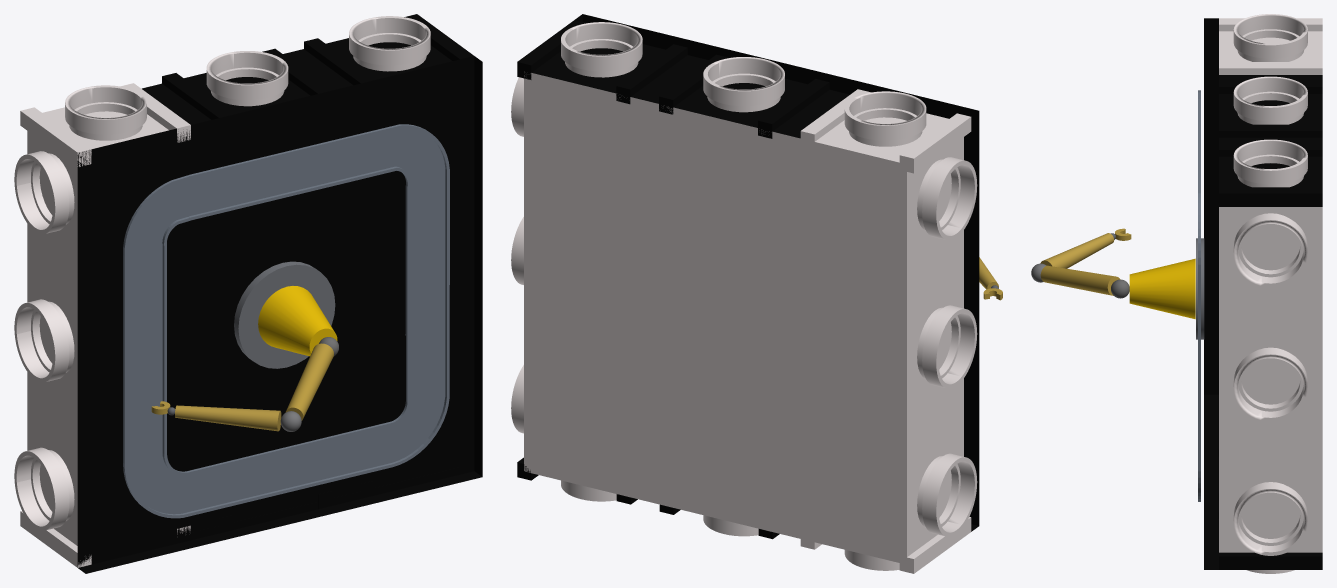
The model's file is montagemaschine.gltf.
The picture shows the model from 3 angles, left to right: view 1: azimuth 30°, elevation 25°; view 2: azimuth 150°, elevation 25°; view 3: azimuth 270°, elevation 25°; orthographic projection. The views are drawn at different scales.
Visible parts, largest first — view 1: table_top, Plane, table_side_back, Cube, Cube.001, Cylinder, Cylinder.001, pipe_exit_back_right, pipe_exit_right_middle, pipe_exit_back_middle, pipe_exit_back_left, pipe_exit_right_2 (+21 smaller); view 2: table_side_bottom, table_side_back, table_top, pipe_exit_right_2, pipe_exit_back_left, pipe_exit_back_middle, pipe_exit_back_right, pipe_exit_right_1, pipe_exit_right_middle, table_leg_back_right, table_side_right.001, table_side_right (+21 smaller); view 3: table_side_front, table_top, Cylinder.001, pipe_exit_right_2, pipe_exit_right_middle, pipe_exit_right_1, table_leg_back_left.002, pipe_entrance_front_middle, pipe_entrance_front_left, pipe_entrance_front_right, table_leg_back_left.001, table_leg_back_left.004 (+19 smaller).
Part boxes in pixels (box(x1,y1,x2,y2)): table_top: box(77, 56, 482, 573); Plane: box(127, 128, 445, 514); table_side_back: box(27, 131, 77, 545); Cube: box(123, 124, 449, 518); Cube.001: box(162, 166, 410, 475); Cylinder: box(234, 261, 335, 368); Cylinder.001: box(258, 286, 337, 356); pipe_exit_back_right: box(14, 151, 69, 234); pipe_exit_right_middle: box(206, 51, 288, 100); pipe_exit_back_middle: box(14, 299, 69, 382); pipe_exit_back_left: box(14, 447, 69, 530); pipe_exit_right_2: box(65, 85, 146, 134); table_side_bottom: box(524, 71, 906, 562); table_side_back: box(907, 137, 963, 556); table_top: box(575, 14, 979, 531); pipe_exit_right_2: box(844, 91, 926, 140); pipe_exit_back_left: box(922, 453, 977, 536); pipe_exit_back_middle: box(922, 305, 977, 388); pipe_exit_back_right: box(922, 157, 977, 240); pipe_exit_right_1: box(561, 22, 642, 71); pipe_exit_right_middle: box(703, 57, 784, 106); table_leg_back_right: box(899, 113, 971, 173); table_side_right.001: box(531, 44, 665, 93); table_side_right: box(815, 113, 948, 162); table_side_front: box(1219, 207, 1322, 552); table_top: box(1204, 18, 1218, 569); Cylinder.001: box(1129, 258, 1195, 319); pipe_exit_right_2: box(1233, 14, 1307, 58); pipe_exit_right_middle: box(1233, 76, 1307, 121); pipe_exit_right_1: box(1233, 139, 1307, 184); table_leg_back_left.002: box(1219, 187, 1322, 206); pipe_entrance_front_middle: box(1233, 348, 1307, 421); pipe_entrance_front_left: box(1233, 482, 1307, 555); pipe_entrance_front_right: box(1233, 214, 1307, 287); table_leg_back_left.001: box(1219, 552, 1322, 569); table_leg_back_left.004: box(1219, 124, 1322, 137).
Size of the model in its own units: 3 by 3 by 1.97.
